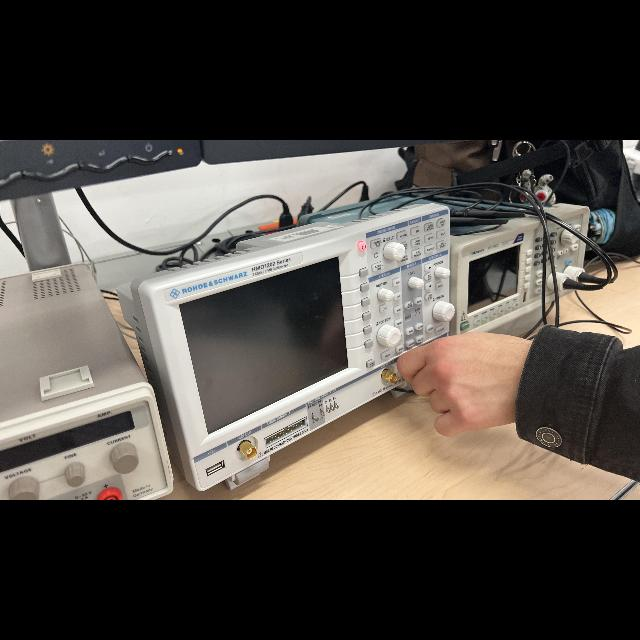Digital-Oscilloscope: (118, 203, 454, 490)
